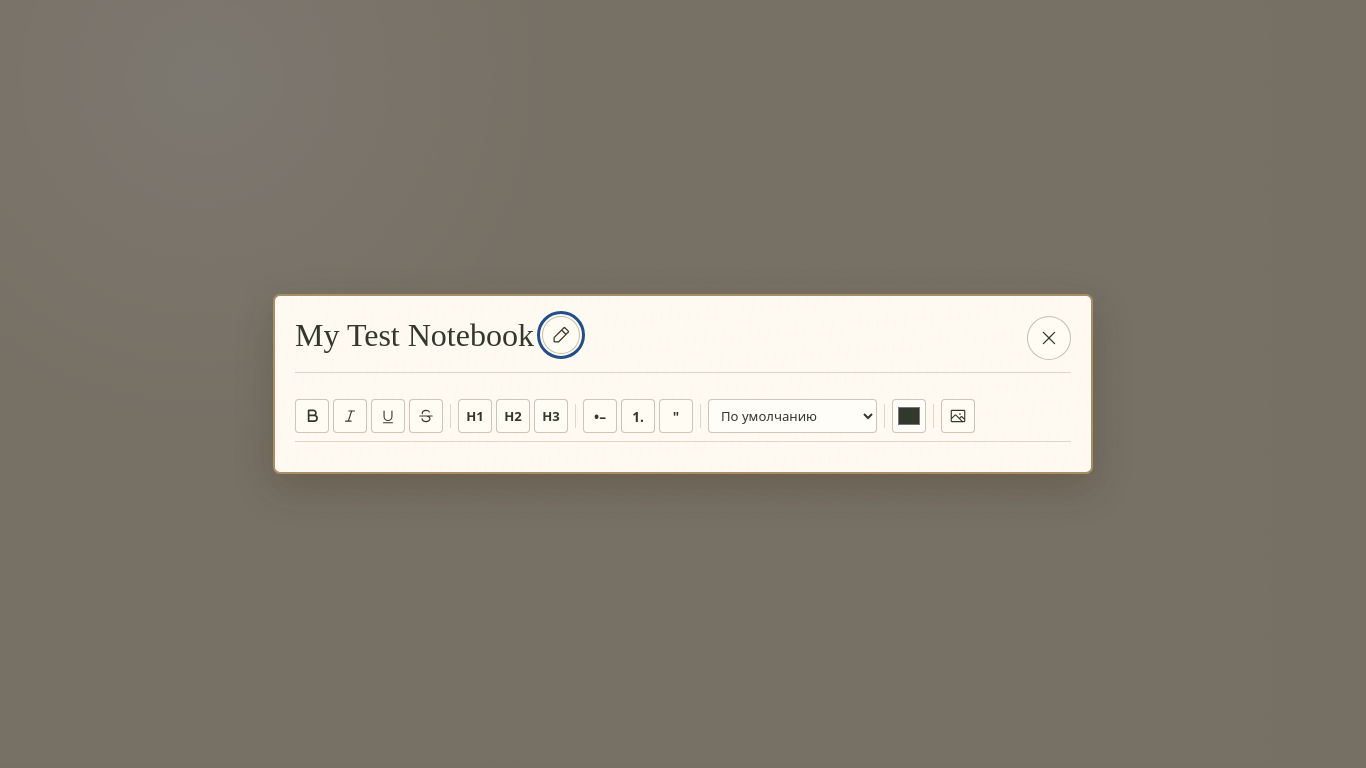
Test: NotebookDialog › enters title edit mode and shows input with current title
The width and height of the screenshot is (1366, 768).
Click the button named "Изменить" at (561, 335), box [542, 316, 580, 354]
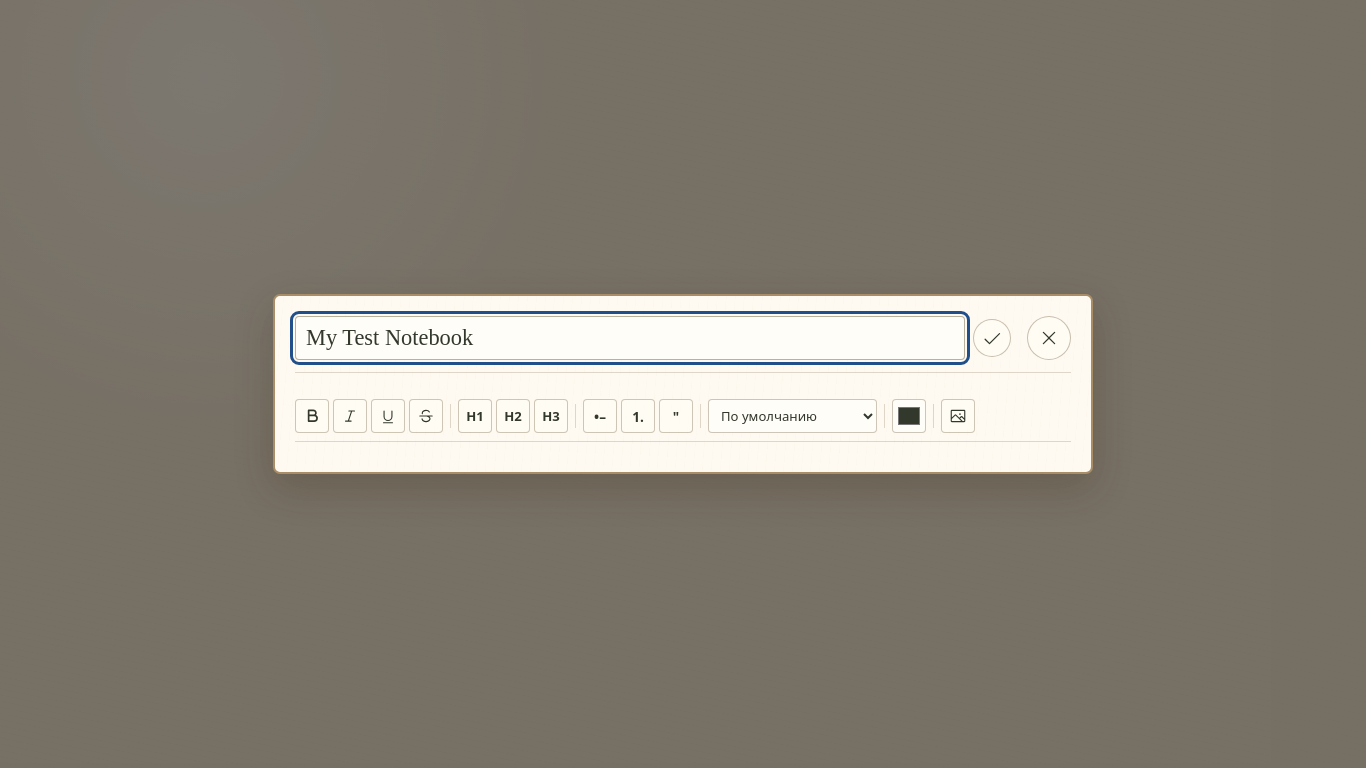
Check: the field holds "My Test Notebook", box [295, 316, 965, 360]
